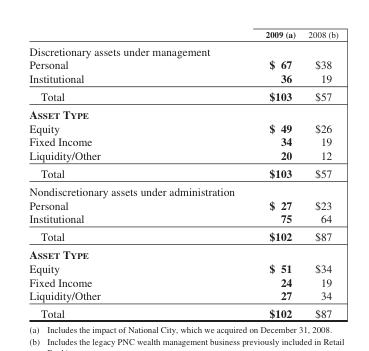table: (28, 28, 337, 319)
table column: (28, 28, 182, 319), (182, 28, 301, 319), (301, 28, 337, 319)
table column header: (28, 28, 337, 41)
table projected row header: (28, 41, 337, 57), (28, 104, 337, 120), (28, 181, 337, 197), (28, 244, 337, 260)
table row: (28, 87, 337, 104), (28, 164, 337, 181), (28, 227, 337, 244), (28, 41, 337, 57), (28, 71, 337, 87), (28, 104, 337, 120), (28, 148, 337, 164), (28, 181, 337, 197), (28, 211, 337, 227), (28, 244, 337, 260), (28, 288, 337, 304), (28, 304, 337, 319), (28, 57, 337, 71), (28, 120, 337, 134), (28, 134, 337, 148), (28, 197, 337, 211), (28, 260, 337, 274), (28, 274, 337, 288), (28, 28, 337, 41)
